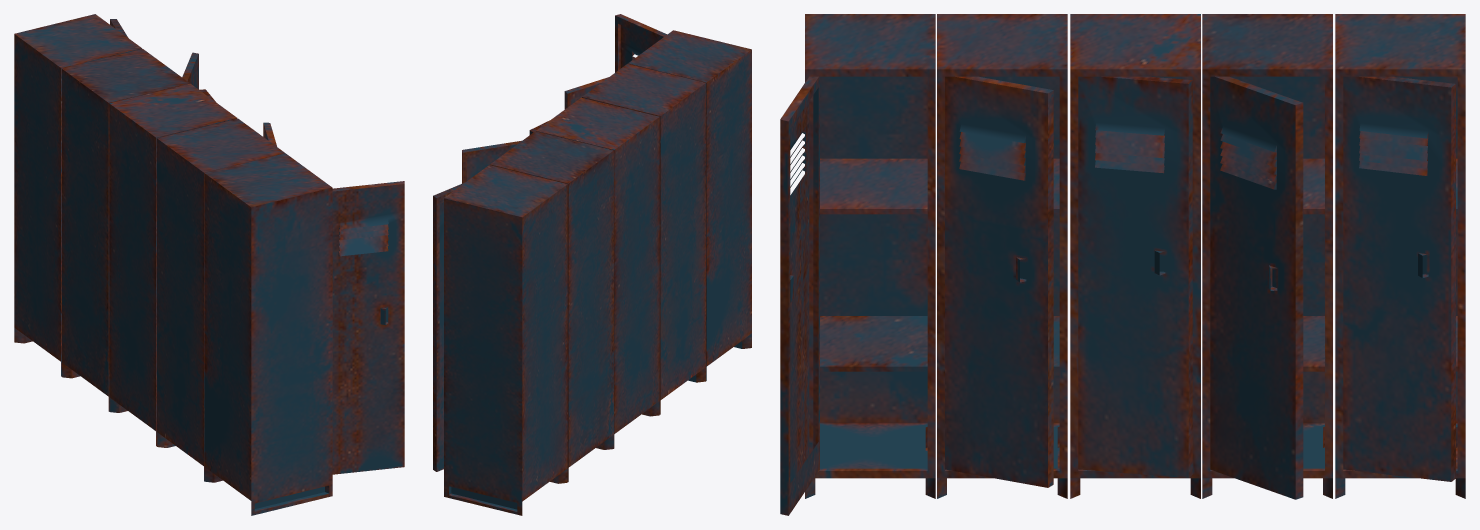
The model's file is school_locker.glb.
The picture shows the model from 3 angles, left to right: view 1: azimuth 30°, elevation 25°; view 2: azimuth 150°, elevation 25°; view 3: azimuth 270°, elevation 25°; orthographic projection. The views are drawn at different scales.
Parts seen in each view (by area): view 1: door_2; view 2: door_2; view 3: door_2.
Part boxes in pixels (bbox=[...]): door_2: bbox=[14, 14, 404, 515]; door_2: bbox=[433, 14, 751, 515]; door_2: bbox=[780, 14, 1465, 515].
Size of what is drawn, in the model's own units: 1.03 by 2.07 by 2.99.
1 material, 1 textured.
